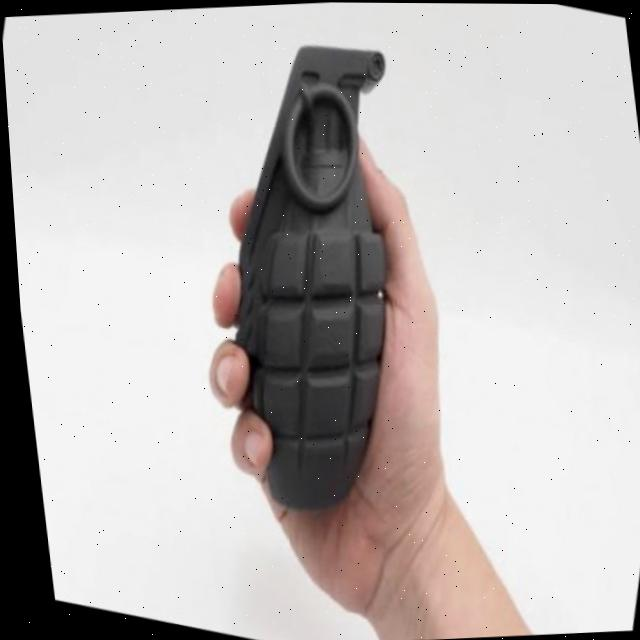grenade: (156, 1, 481, 537)
